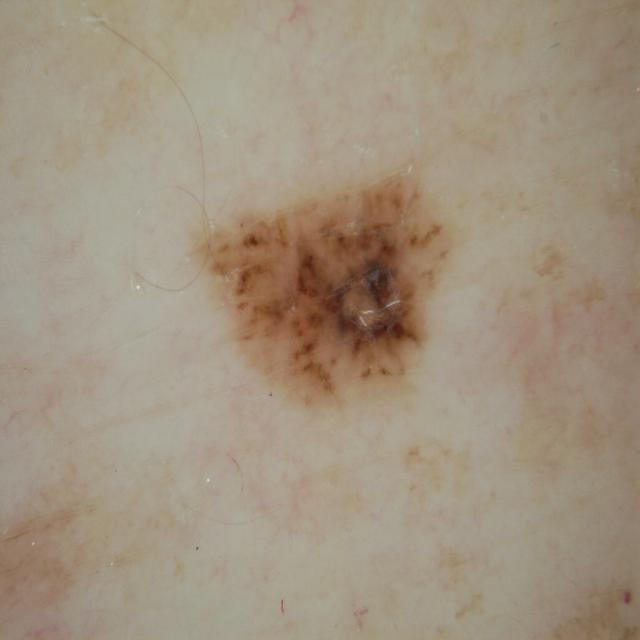Skin-Cancer Melanoma: (132, 104, 550, 490)
